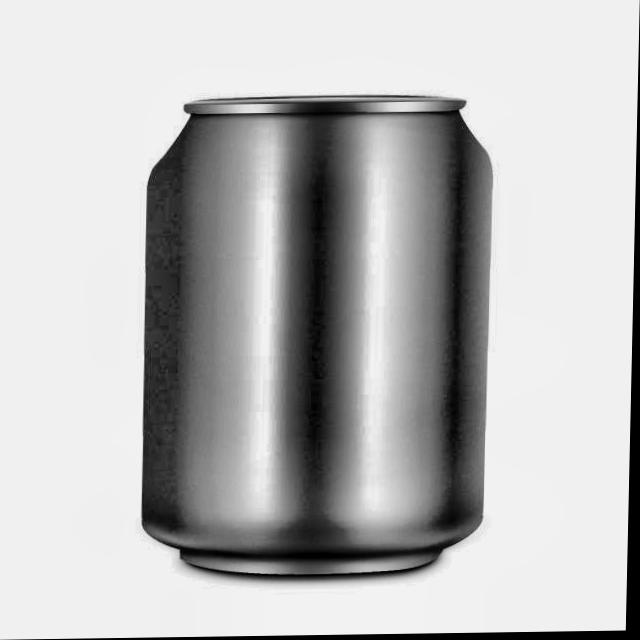can: (128, 84, 503, 586)
